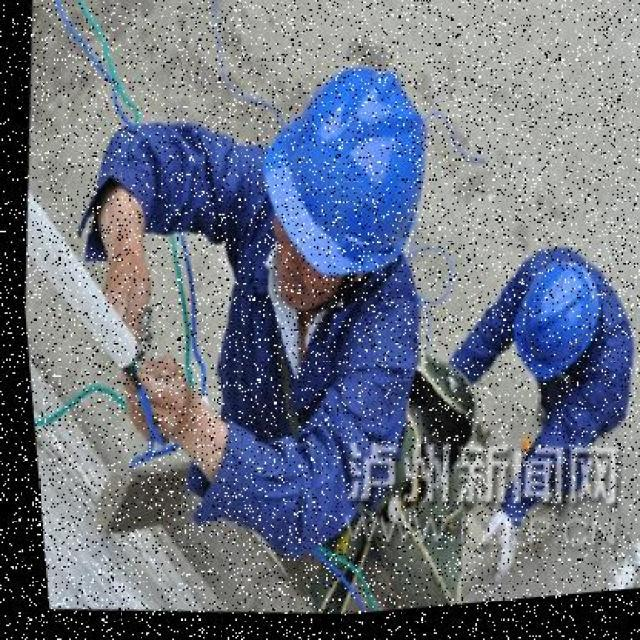helmet: (248, 58, 444, 296), (491, 259, 604, 399)
